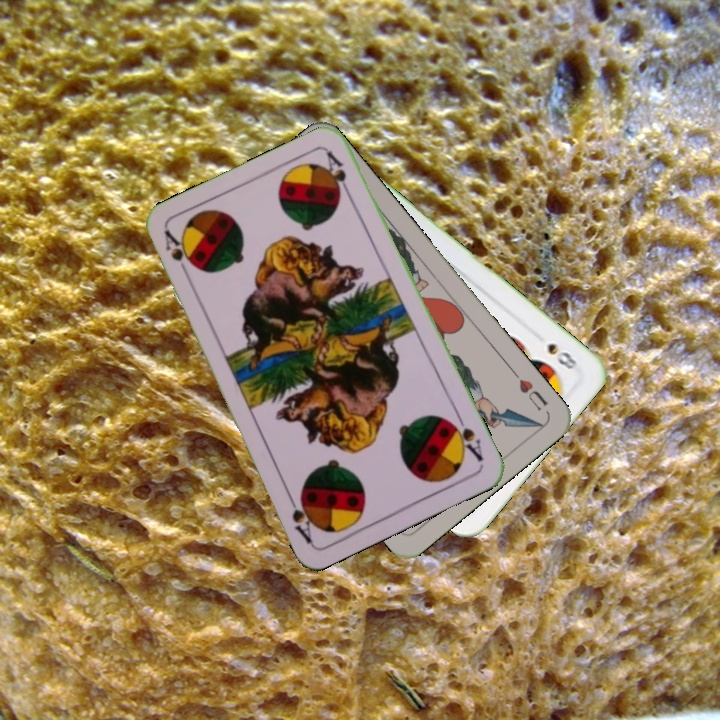HU: (508, 366, 551, 414)
S8: (543, 339, 581, 373)
SA: (444, 409, 486, 465), (160, 226, 195, 283)
